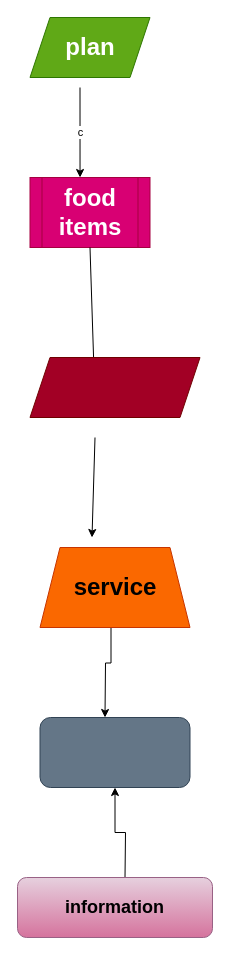
Image size: 230x955. Some labels were removed from this diagram. The centre of each missing label's shape, as x and y in pixels:
developments: (114,752)
maintance: (114,387)
